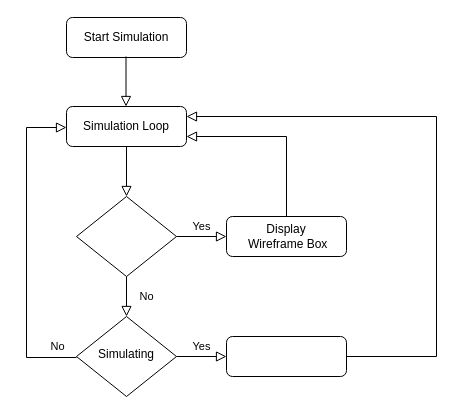
This 464x414 diagram has some shape labels left out. The centre of each missing label's shape, as x and y in pixels:
"Editing" goes at (x=126, y=236).
"Update Particle Position" goes at (x=286, y=356).
